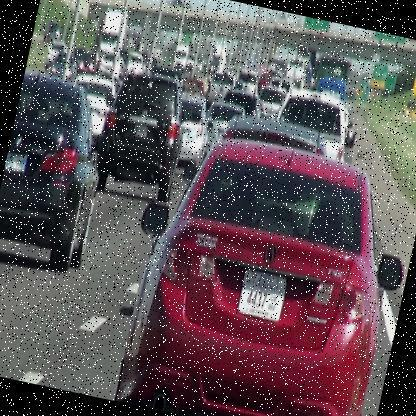License-Plate: (234, 261, 292, 326), (3, 148, 29, 177), (131, 121, 149, 140)
